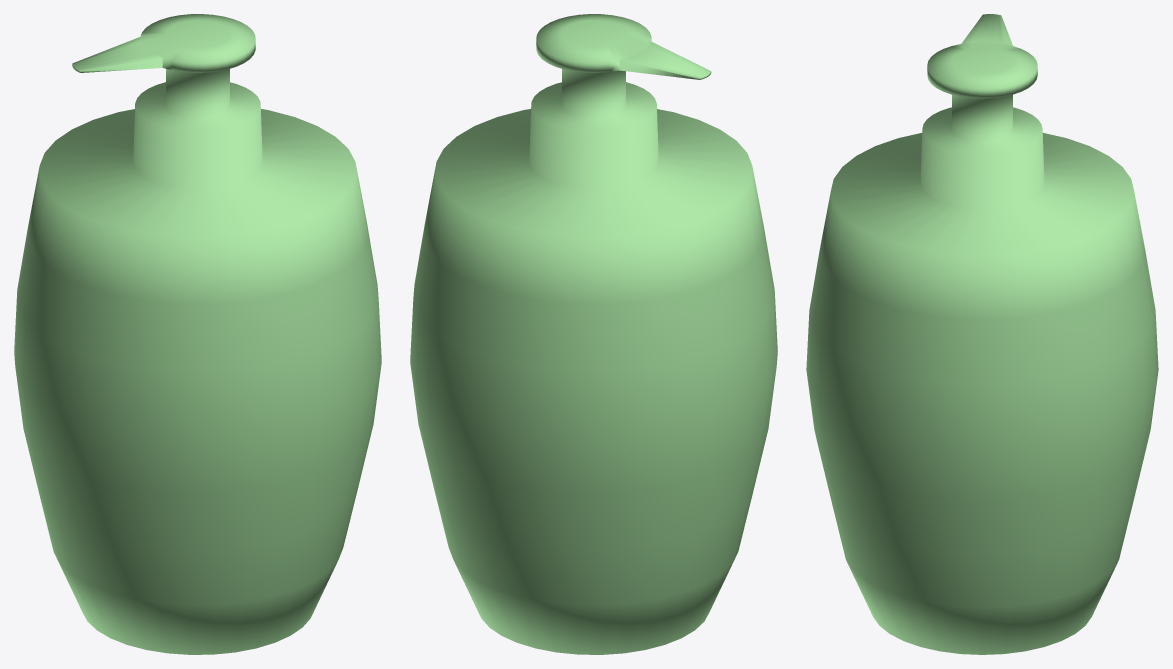
Rendered from SaponeLiquidoArancia.fbx.
The picture shows the model from 3 angles, left to right: view 1: azimuth 30°, elevation 25°; view 2: azimuth 150°, elevation 25°; view 3: azimuth 270°, elevation 25°; orthographic projection. The views are drawn at different scales.
Visible parts, largest first — view 1: SaponeLiquido.001; view 2: SaponeLiquido.001; view 3: SaponeLiquido.001.
Boxes of the visible parts, bbox=[...] form: SaponeLiquido.001: bbox=[14, 14, 381, 654]; SaponeLiquido.001: bbox=[410, 14, 777, 654]; SaponeLiquido.001: bbox=[806, 14, 1158, 654].
Size of the model in its own units: 272 by 465 by 272.
